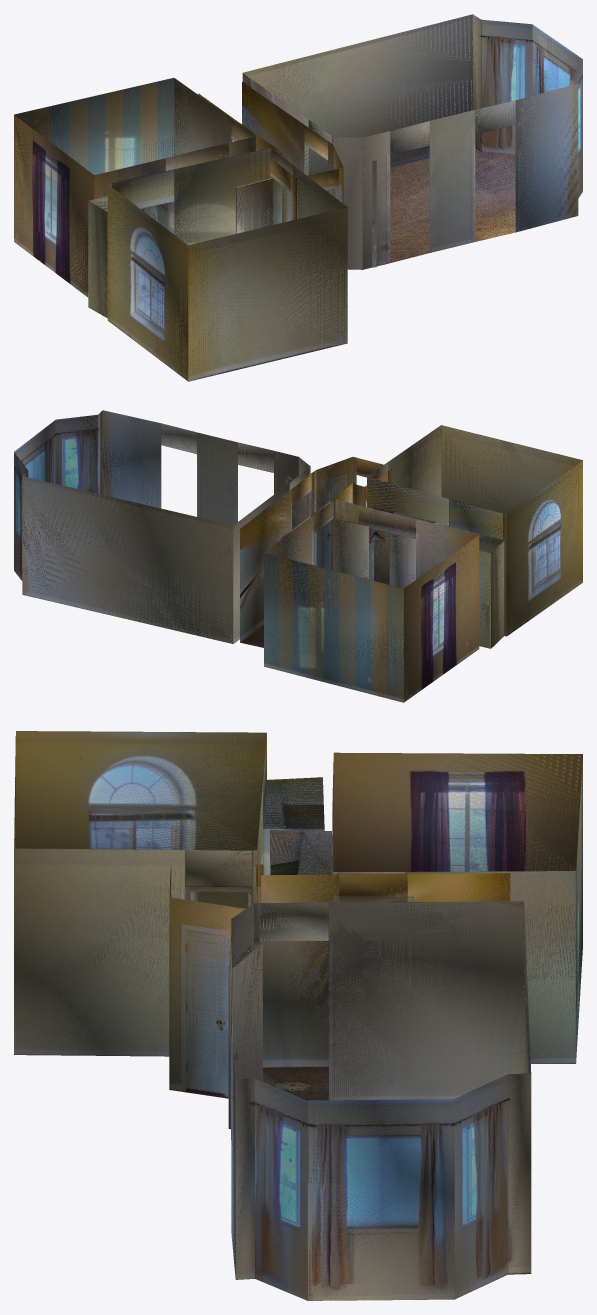
Rendered from room.obj.
3 views of the same model, one above another, from view 1: azimuth 30°, elevation 25°; view 2: azimuth 150°, elevation 25°; view 3: azimuth 270°, elevation 25° (orthographic). The views are drawn at different scales.
Visible parts, largest first — view 1: combined; view 2: combined; view 3: combined.
Boxes of the visible parts, x1,y1,x2,y2 form: combined: [14, 14, 582, 381]; combined: [14, 410, 582, 702]; combined: [14, 731, 582, 1300].
Bounding box in the file's own units: 17.92 × 4.76 × 11.87.
5 materials, 5 textured.
